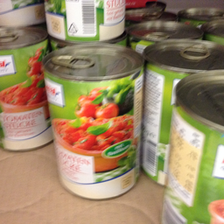tomato_sauce: (41, 44, 143, 201), (158, 69, 223, 224), (1, 26, 52, 153)
